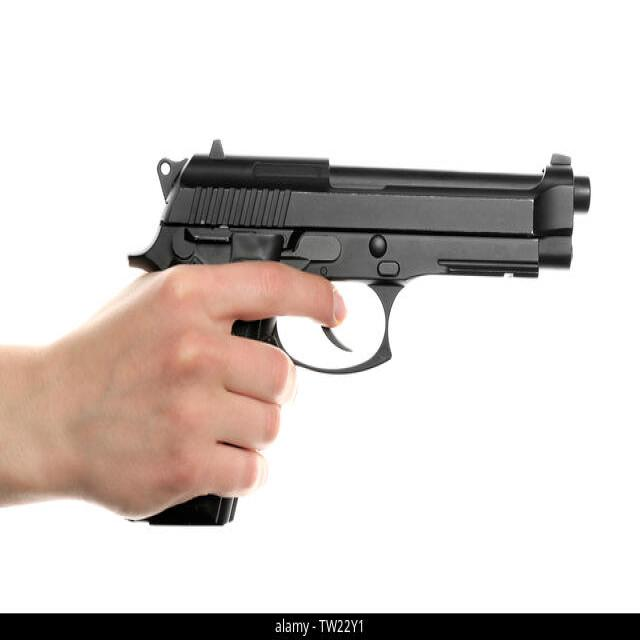HandGun: (129, 141, 592, 375)
